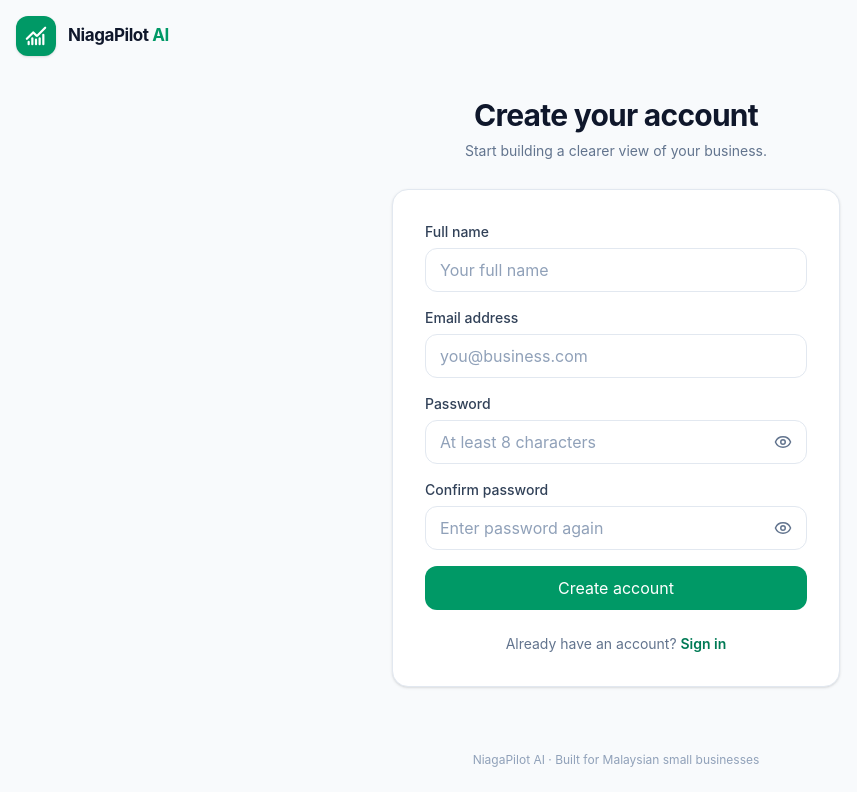
Scenario: authentication routes › rejects invalid registration details
Type "Amina" into the field labelled "Full name" at (616, 270), box top-left (425, 248), bottom-right (807, 292)
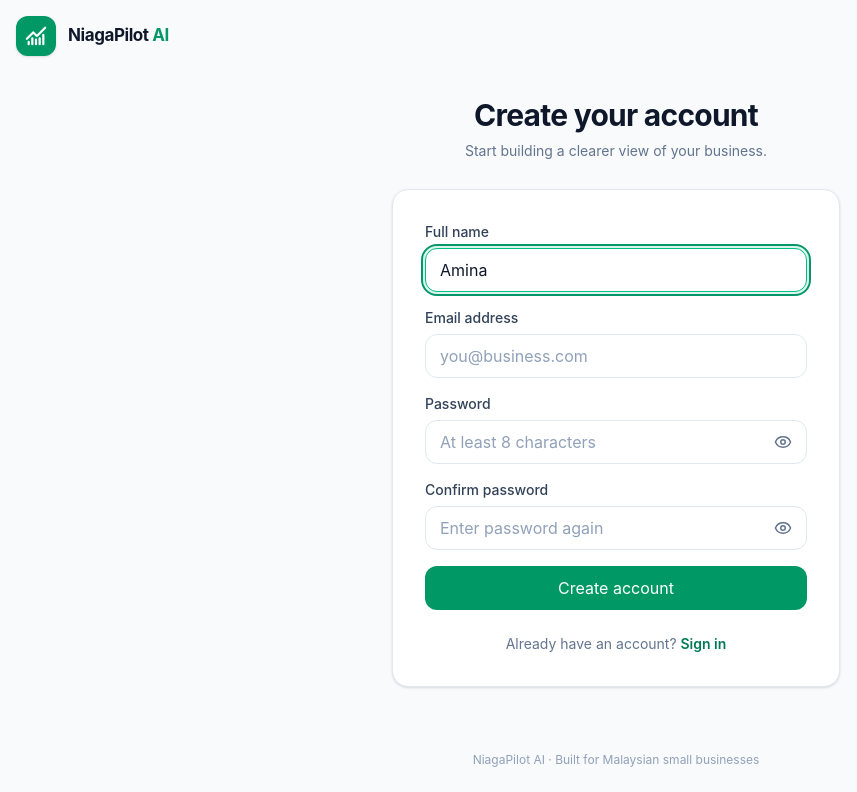
Type "wrong-email" into the field labelled "Email address" at (616, 356), box top-left (425, 334), bottom-right (807, 378)
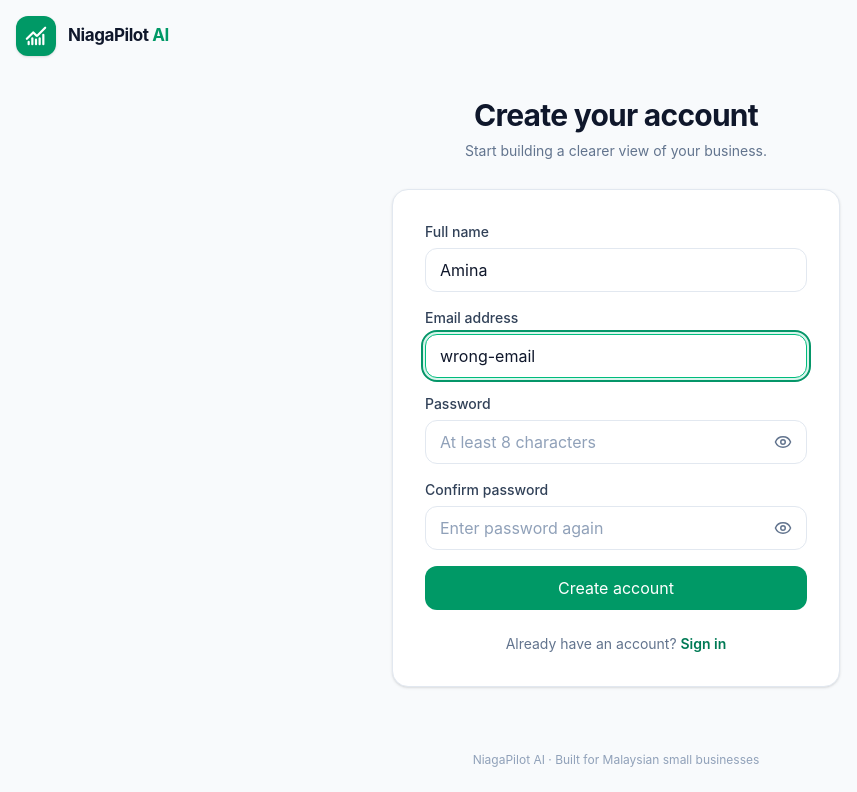
Type "securepass1" into the password field labelled "Password" at (616, 442), box top-left (425, 420), bottom-right (807, 464)
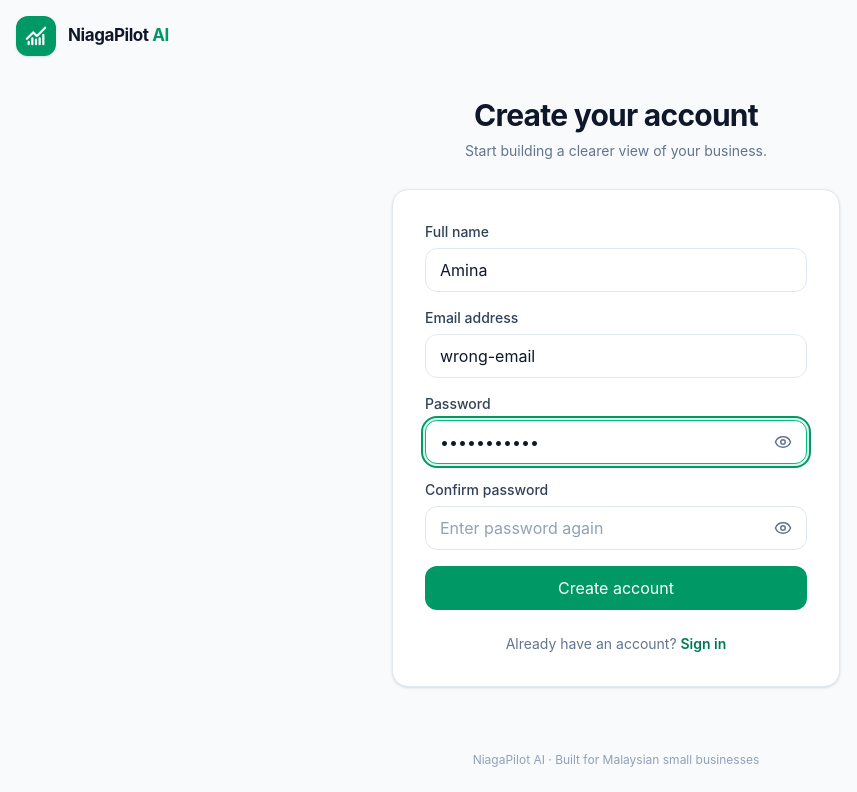
Type "different" into the password field labelled "Confirm password" at (616, 528), box top-left (425, 506), bottom-right (807, 550)
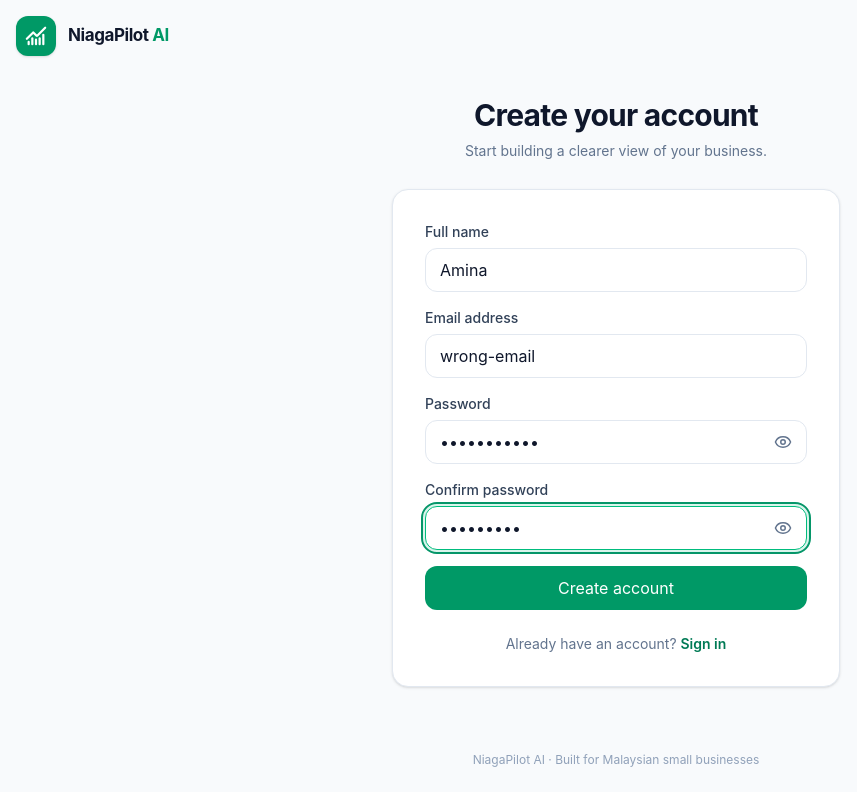
Click the button "Create account" at (616, 588), box top-left (425, 566), bottom-right (807, 610)
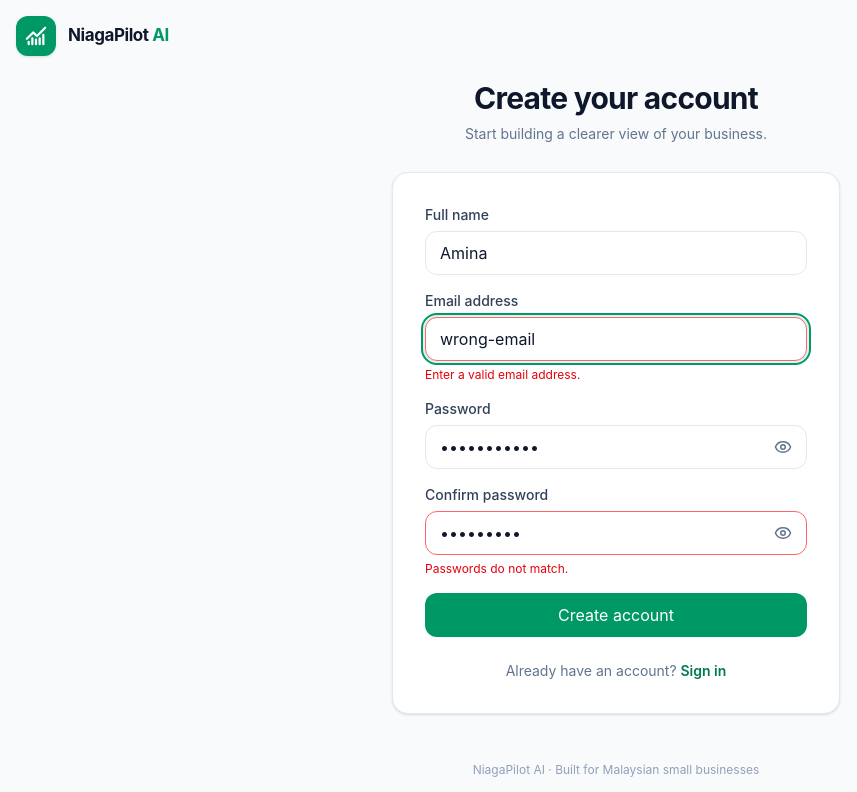
Expected: the text "Enter a valid email address." is shown, top-left (425, 367), bottom-right (580, 382)
Expected: the text "Passwords do not match." is shown, top-left (425, 561), bottom-right (568, 576)
